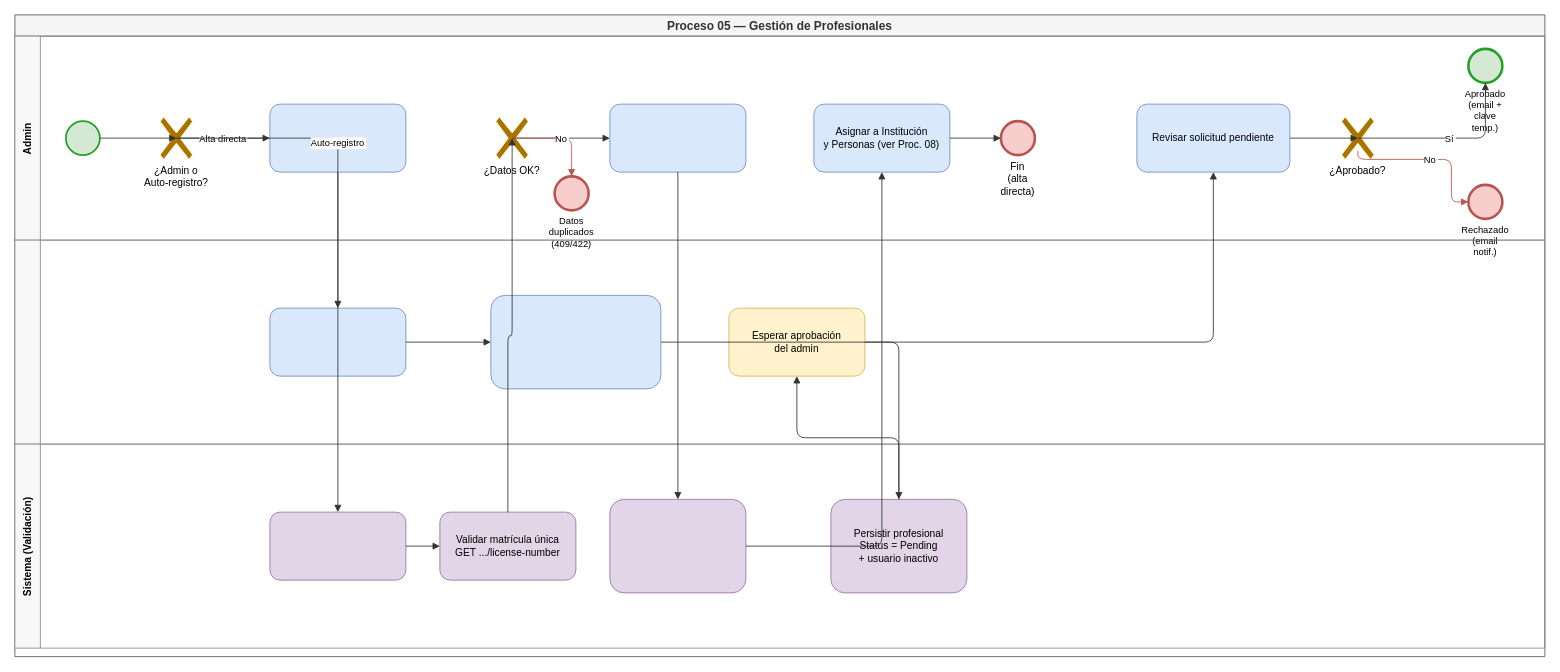
Some shapes in this 1560 by 672 pixel diagram are drawn without their labels. Here are the shapes that lost their labels. From the top down, the box of each, then its label:
(65, 120, 100, 156): Inicio
(269, 103, 406, 172): Completar formulario (email, matrícula, datos)
(609, 103, 746, 172): Alta de Profesional
(269, 307, 406, 376): Completar formulario de auto-registro
(490, 295, 661, 389): Enviar solicitud de registro (estado: pendiente de aprobación)
(14, 239, 1545, 444): Profesional (Auto-registro)
(269, 511, 406, 580): Validar email único GET .../email
(609, 499, 746, 593): Persistir profesional + generar cuenta usuario (Status = Approved)
